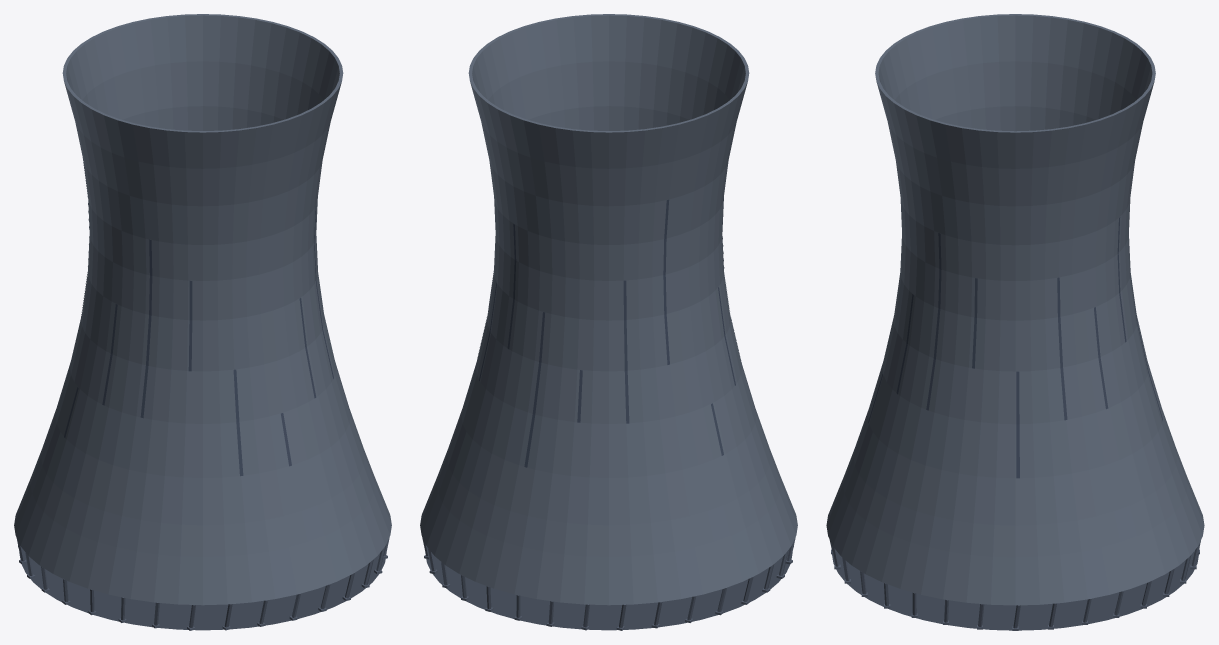
File: power_cooling_tower.glb
The picture shows the model from 3 angles, left to right: view 1: azimuth 30°, elevation 25°; view 2: azimuth 150°, elevation 25°; view 3: azimuth 270°, elevation 25°; orthographic projection.
Visible parts, largest first — view 1: cooling_tower_concrete, turbine_hall_floor, concrete, concrete_raw_cast; view 2: cooling_tower_concrete, turbine_hall_floor, concrete, concrete_raw_cast; view 3: cooling_tower_concrete, turbine_hall_floor, concrete, concrete_raw_cast.
Boxes of the visible parts, left/top/right/bottom form: cooling_tower_concrete: left=14, top=14, right=391, bottom=605; turbine_hall_floor: left=19, top=549, right=386, bottom=630; concrete: left=64, top=159, right=333, bottom=476; concrete_raw_cast: left=16, top=538, right=389, bottom=630; cooling_tower_concrete: left=420, top=14, right=797, bottom=605; turbine_hall_floor: left=425, top=549, right=792, bottom=630; concrete: left=477, top=199, right=741, bottom=467; concrete_raw_cast: left=422, top=538, right=795, bottom=630; cooling_tower_concrete: left=826, top=14, right=1204, bottom=605; turbine_hall_floor: left=832, top=552, right=1198, bottom=630; concrete: left=868, top=217, right=1162, bottom=478; concrete_raw_cast: left=829, top=539, right=1200, bottom=630.
Bounding box in the file's own units: 50 × 70 × 50.
